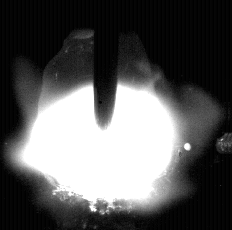arame: (94, 0, 119, 129)
poca: (29, 0, 176, 230)
